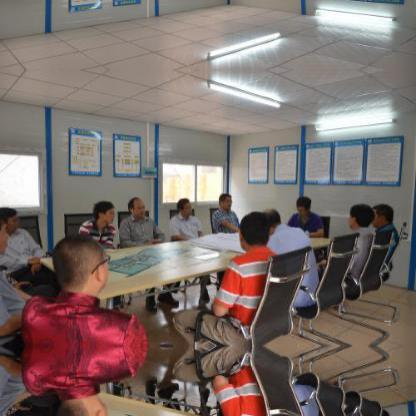head: (53, 233, 115, 296), (238, 209, 271, 250), (53, 393, 116, 414), (86, 198, 117, 228), (347, 201, 374, 232), (0, 204, 24, 232), (370, 198, 394, 226), (263, 202, 283, 234), (126, 194, 145, 218), (294, 194, 313, 218), (215, 192, 234, 210), (0, 220, 10, 254), (174, 196, 190, 216)
